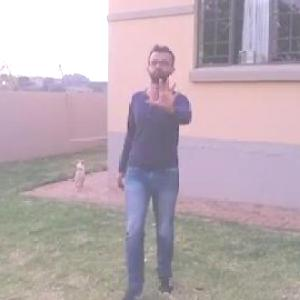follow_hand: (144, 69, 188, 118)
